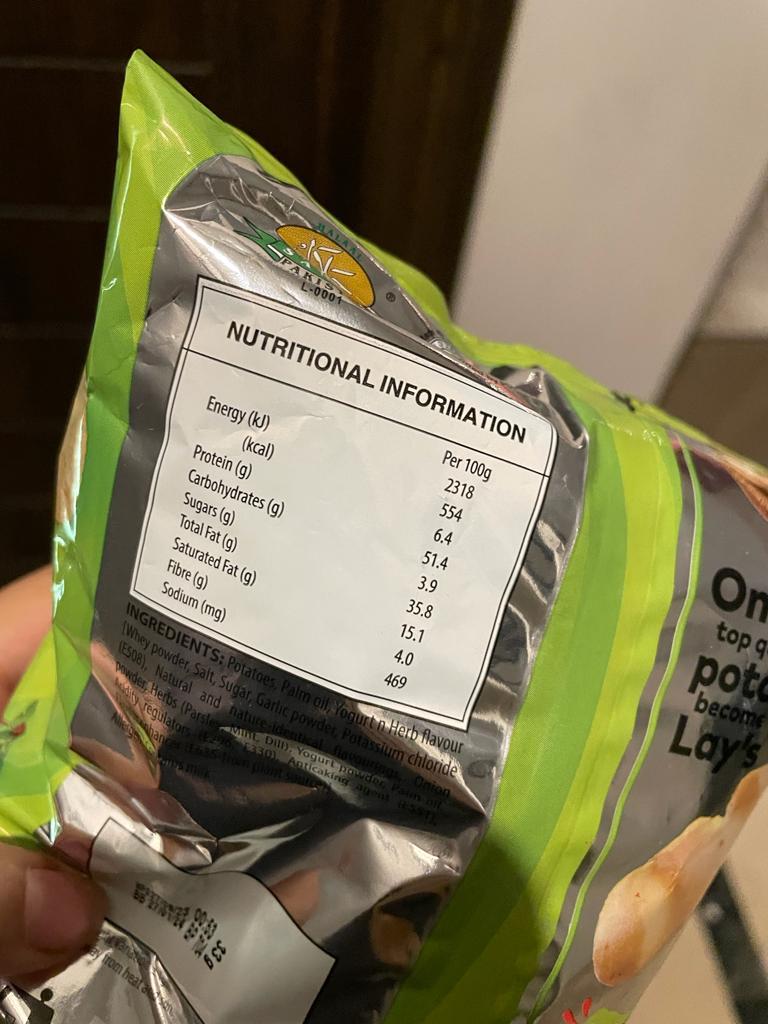table: (127, 271, 539, 732)
